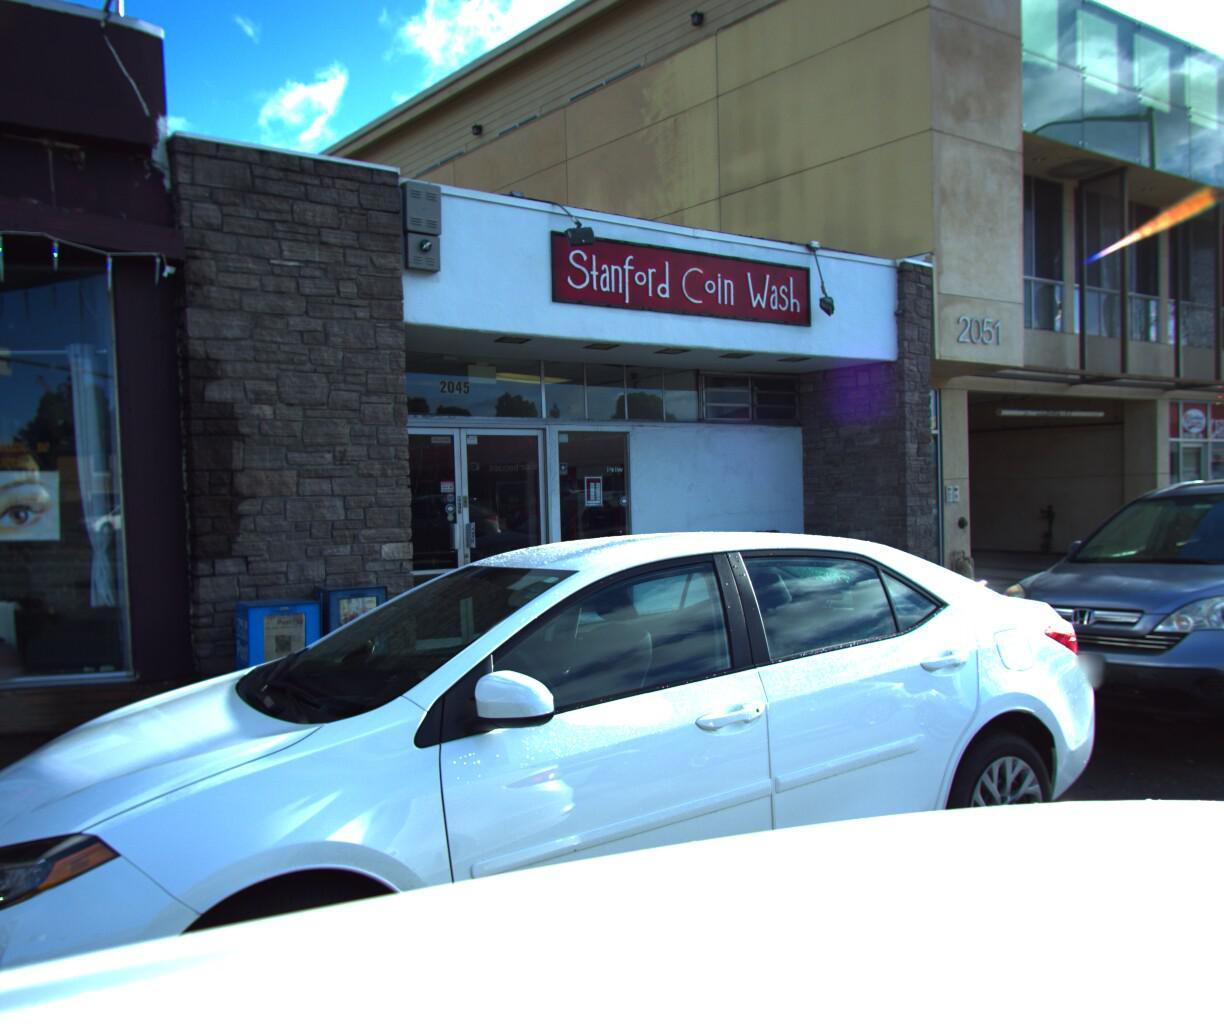car: (0, 502, 1158, 1024), (929, 460, 1224, 803)
